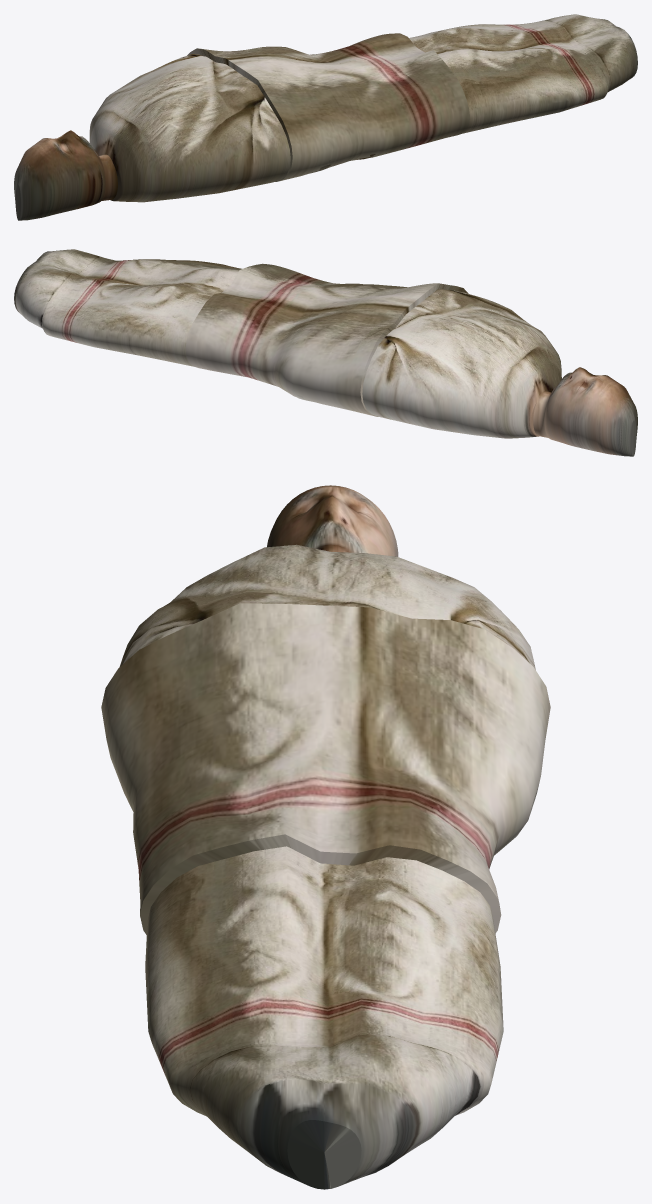
File: arif.glb
The picture shows the model from 3 angles, top to bottom: view 1: azimuth 30°, elevation 25°; view 2: azimuth 150°, elevation 25°; view 3: azimuth 270°, elevation 25°; orthographic projection. The views are drawn at different scales.
Parts seen in each view (by area): view 1: arif, pestemal; view 2: arif, pestemal; view 3: arif, pestemal.
Part boxes in pixels (x1,y1,x2,y2): arif: (14, 14, 637, 220); pestemal: (187, 33, 469, 181); arif: (14, 249, 637, 456); pestemal: (185, 263, 468, 416); arif: (119, 485, 535, 1189); pestemal: (101, 603, 550, 934).
Bounding box in the file's own units: 1.93 × 0.3167 × 0.6207.
Materials: 2 (2 with a texture image).
